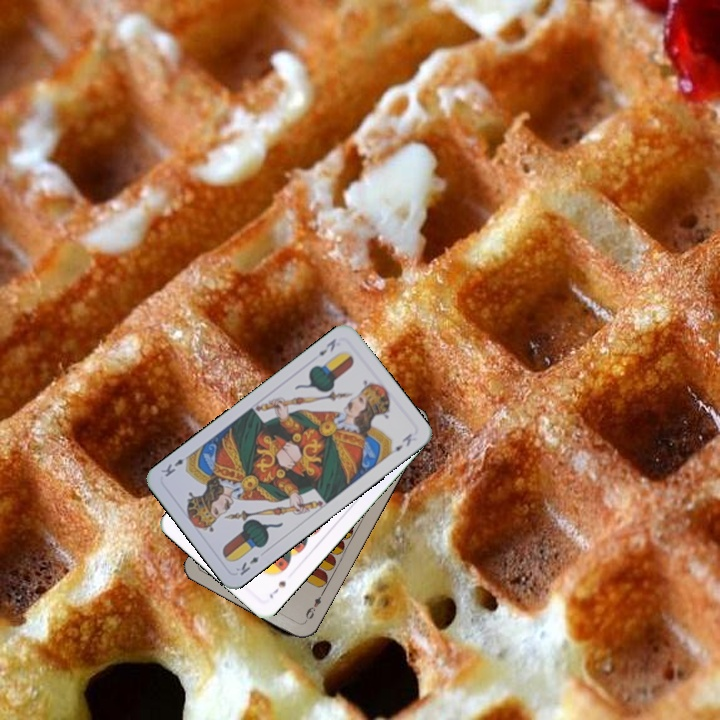E9: (301, 588, 327, 625)
EK: (232, 552, 262, 578), (314, 334, 339, 358)
S7: (265, 577, 289, 601)
